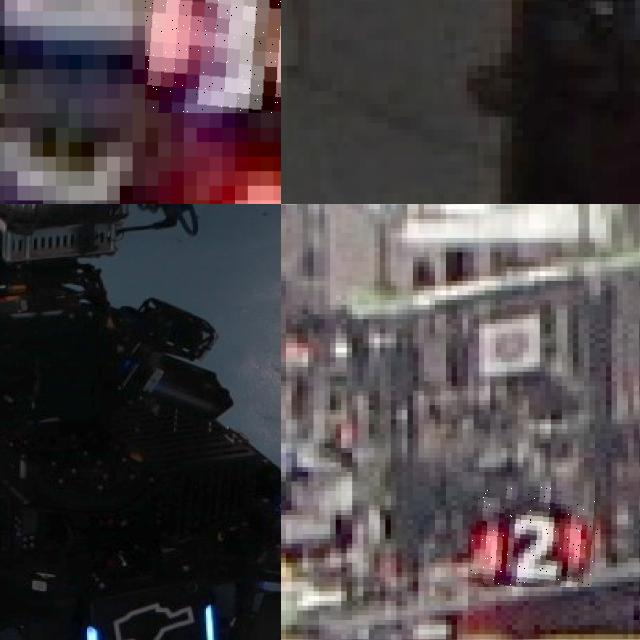Bs: (82, 595, 217, 640)
R2: (471, 486, 598, 587)
R3: (145, 0, 281, 113)
